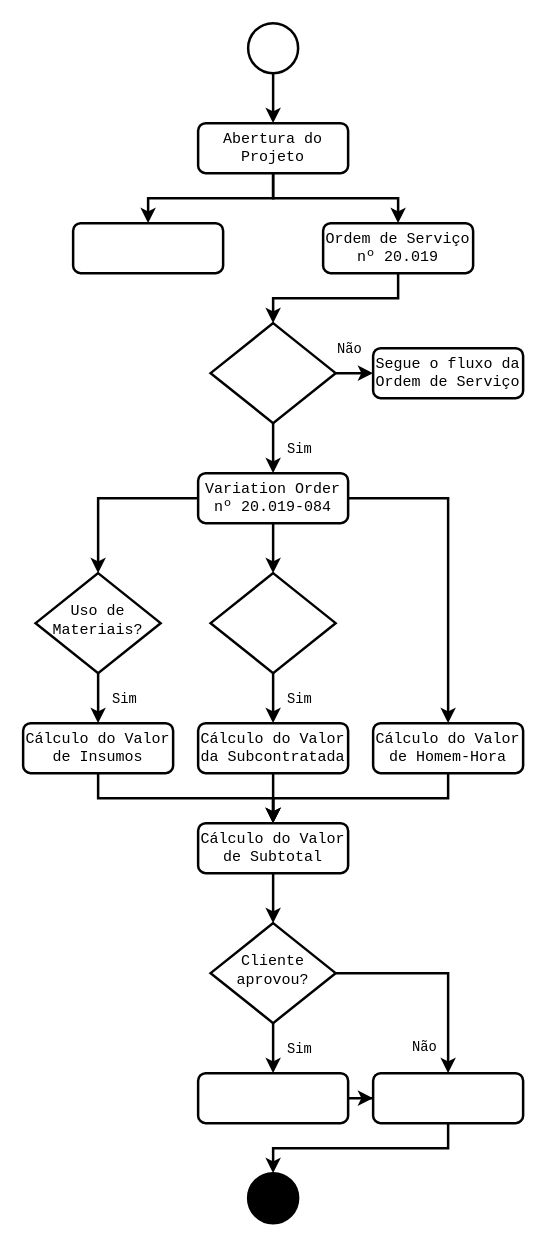
The diagram is 545 pixels wide and 1245 high, and some of its shapes have lost their labels. Here are the shapes that lost their labels. From the top down, the centre of each, then its label:
the point at 147,247: Ordem de Serviço nº 20.xxx
the point at 272,372: Mudou o Escopo?
the point at 272,622: Serviços Terceiros?
the point at 272,1097: Execução dos serviços da VOR
the point at 447,1097: Encerramento da VOR
